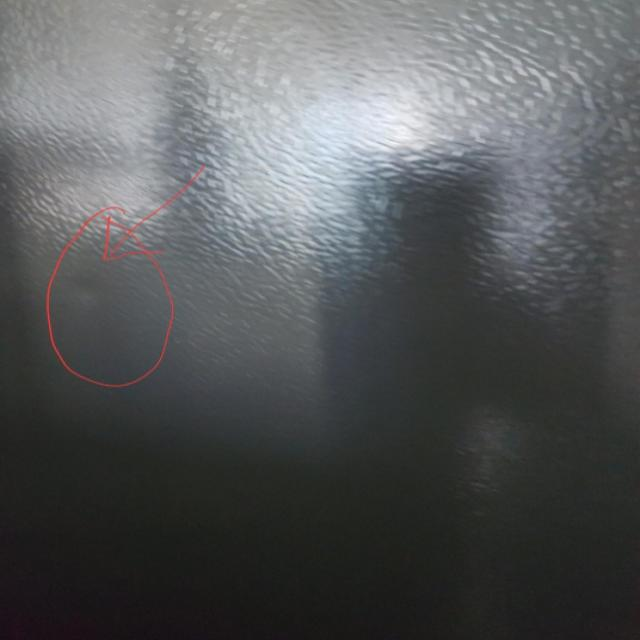dents: (52, 261, 127, 317)
